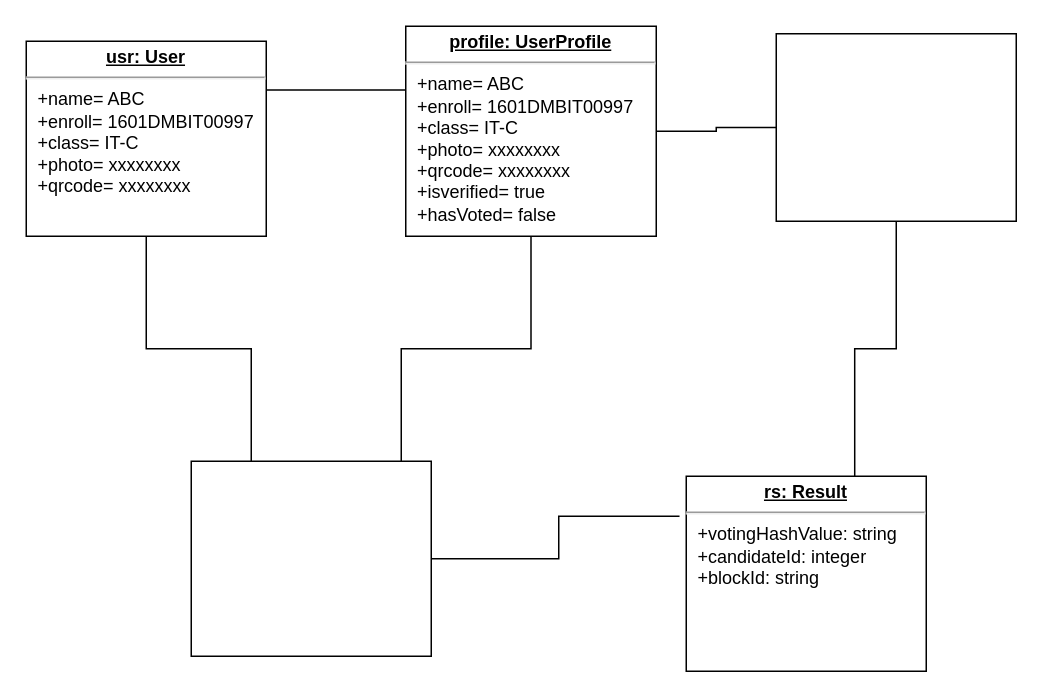
Some shapes in this 1043 by 698 pixel diagram are drawn without their labels. The shapes that lost their labels are listed below. From the top down, each one's centre as x and y in pixels, then its label:
At (x=895, y=126): "adm: Admin +name= Admin +id= 1 -password= xxxxxxx".
At (x=310, y=558): "vt: Voting +votingid: 123 +votinghashValue: 0xfg44.... +candidateId: 2".
